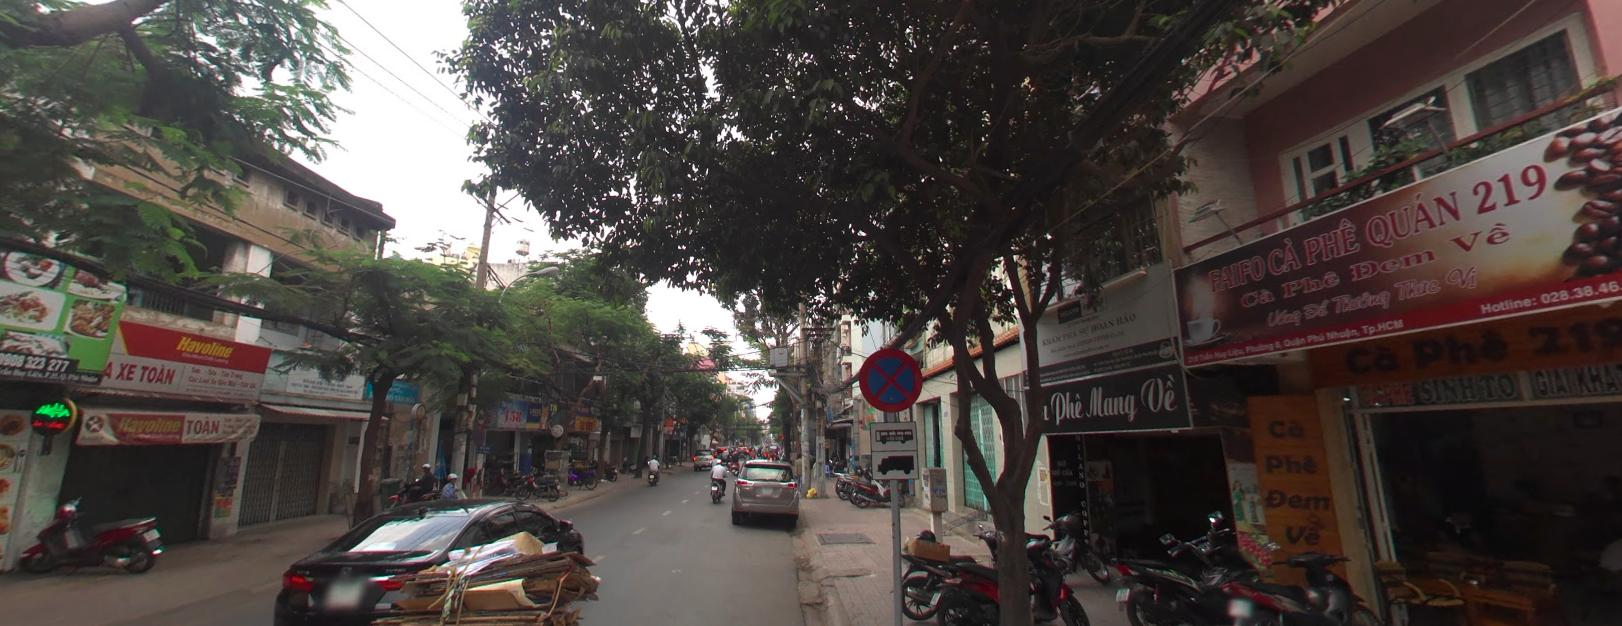Cam dung va do: (857, 346, 921, 409)
